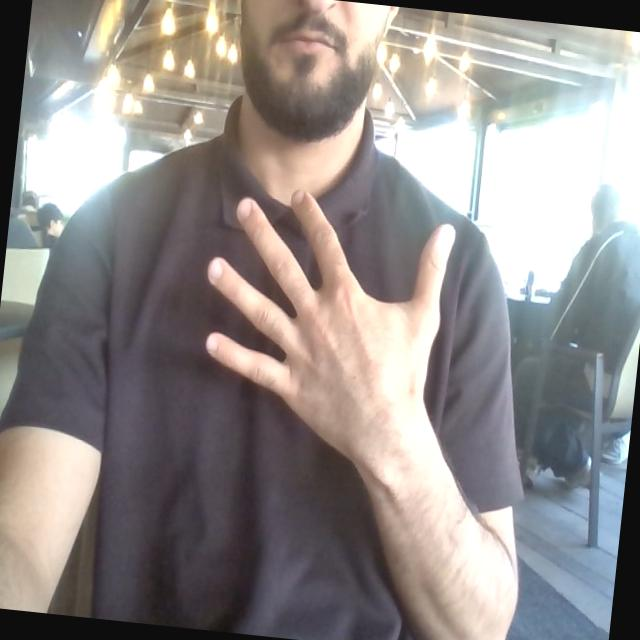Hand: (206, 192, 453, 460)
